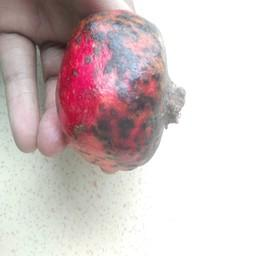Bad_pomegranate: (51, 3, 188, 188)
